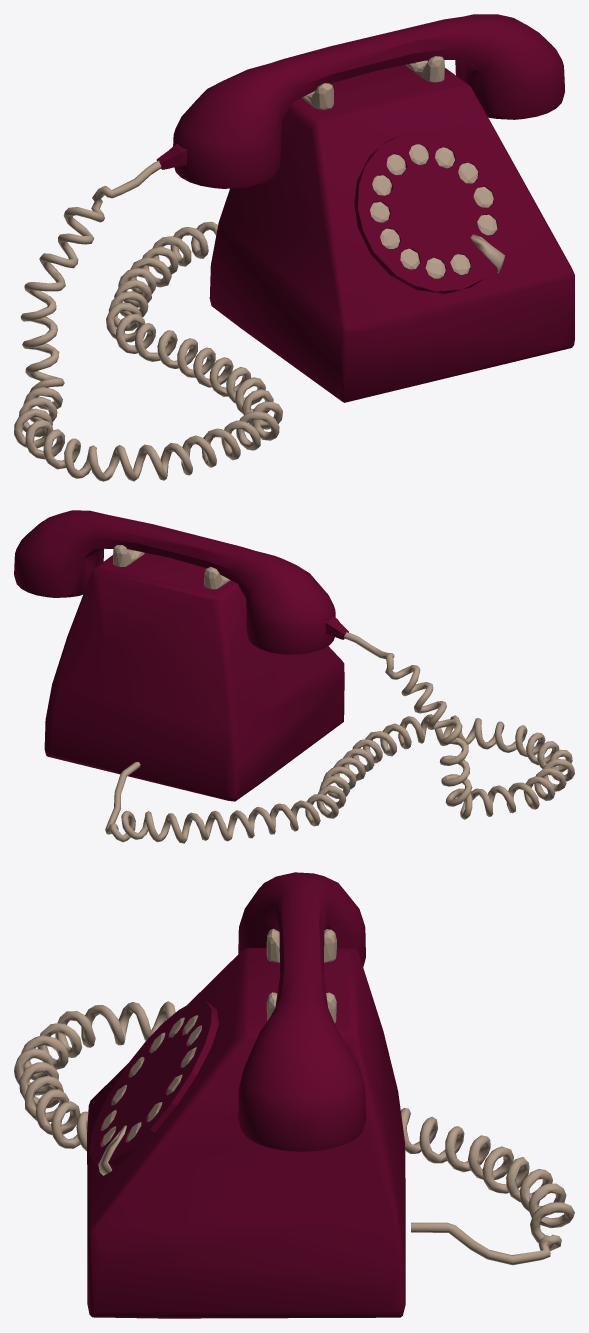
Rendered from phone.glb.
3 views of the same model, one above another, from view 1: azimuth 30°, elevation 25°; view 2: azimuth 150°, elevation 25°; view 3: azimuth 270°, elevation 25° (orthographic). The views are drawn at different scales.
Parts seen in each view (by area): view 1: stand; view 2: stand; view 3: stand.
Part boxes in pixels (left/top/right/bottom): stand: left=14, top=14, right=574, bottom=481; stand: left=14, top=510, right=574, bottom=843; stand: left=14, top=872, right=574, bottom=1318.
Size of the model in its own units: 4.99 by 2.32 by 3.5.
